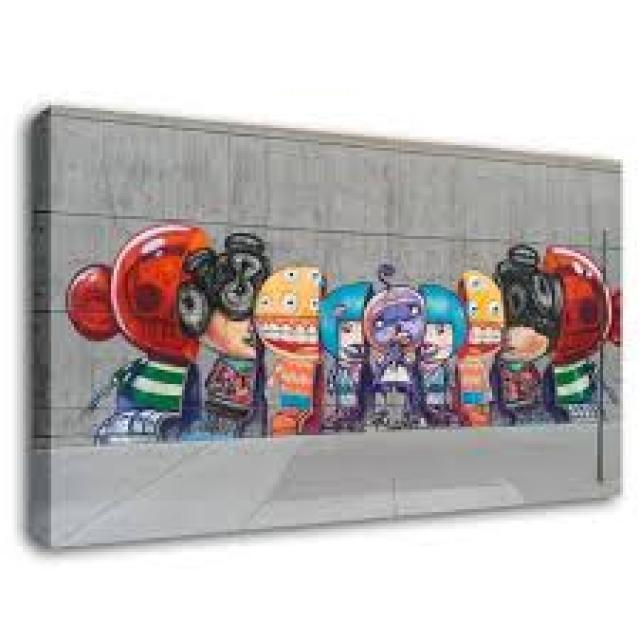-: (75, 225, 621, 452)
